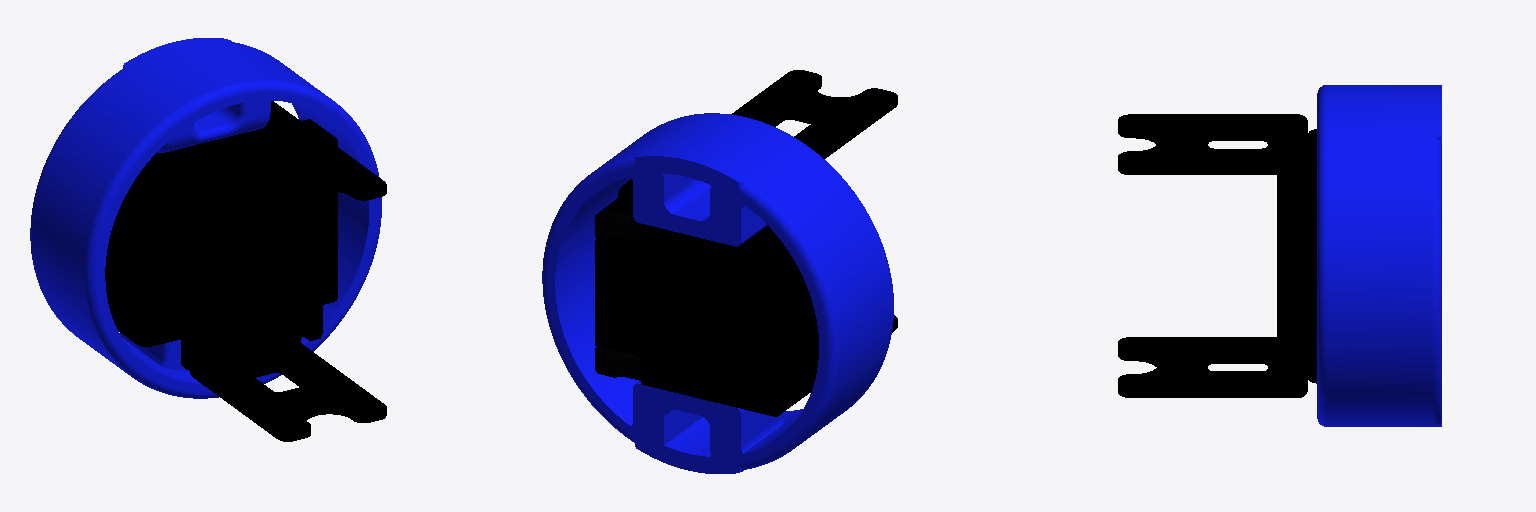
The model's file is tail_color.obj.
3 renders of one model, left to right at view 1: azimuth 30°, elevation 25°; view 2: azimuth 150°, elevation 25°; view 3: azimuth 270°, elevation 25°, orthographic.
Parts seen in each view (by area): view 1: 솔리드1:1, 솔리드1:3, 솔리드1:2, 솔리드1; view 2: 솔리드1:1, 솔리드1, 솔리드1:3, 솔리드10, 솔리드1:2; view 3: 솔리드1:1, 솔리드1:3, 솔리드1:2.
Boxes of the visible parts, box(x1,y1,x2,y2) form: 솔리드1:1: box(30, 38, 381, 398); 솔리드1:3: box(181, 120, 386, 441); 솔리드1:2: box(107, 119, 337, 346); 솔리드1: box(105, 101, 298, 297); 솔리드1:1: box(542, 113, 893, 473); 솔리드1: box(595, 187, 811, 416); 솔리드1:3: box(732, 70, 897, 332); 솔리드10: box(595, 209, 640, 380); 솔리드1:2: box(618, 179, 818, 390); 솔리드1:1: box(1317, 85, 1441, 426); 솔리드1:3: box(1118, 114, 1307, 397); 솔리드1:2: box(1308, 129, 1316, 383).
Size of the model in its own units: 0.055 by 0.055 by 0.052.